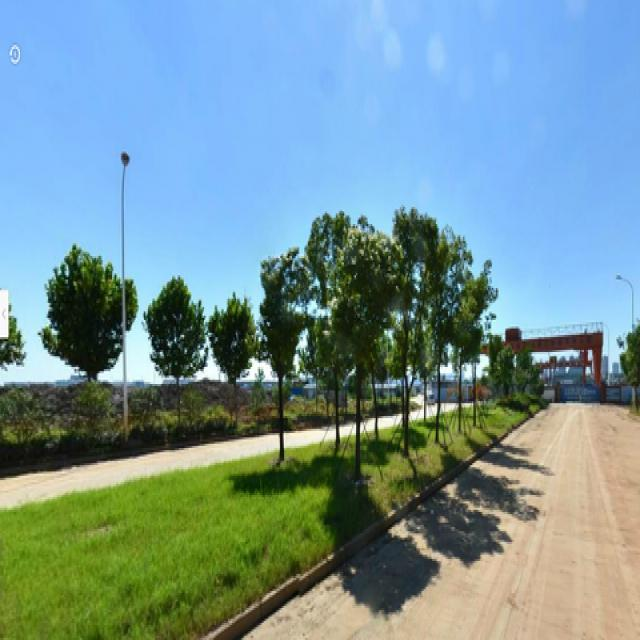meta: (56, 262, 119, 406), (155, 280, 196, 420), (213, 286, 247, 407)
